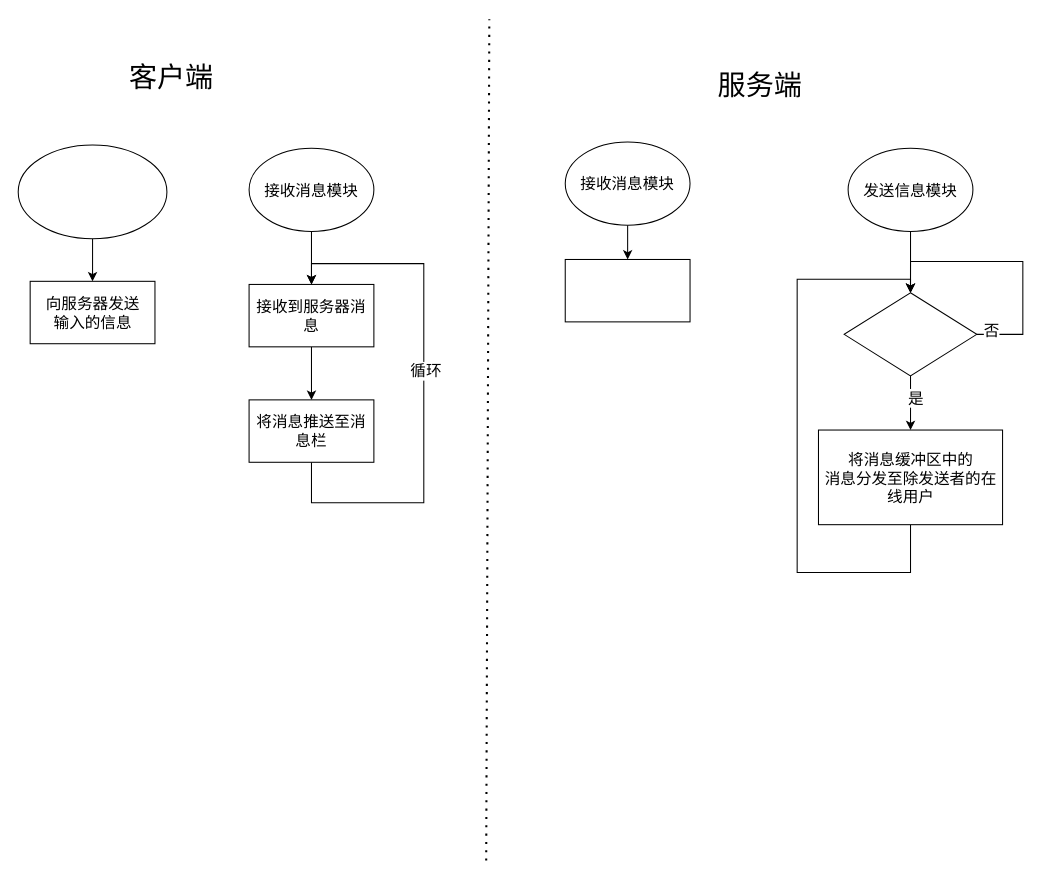
The diagram is 1049 pixels wide and 880 high, and some of its shapes have lost their labels. The shapes that lost their labels are listed below. From the top down, each one's centre as x and y in pixels, then its label:
(x=92, y=191): 客户端点击 发送消息按钮
(x=627, y=290): 将消息放入 消息缓冲区
(x=910, y=334): 消息缓冲区非空？
